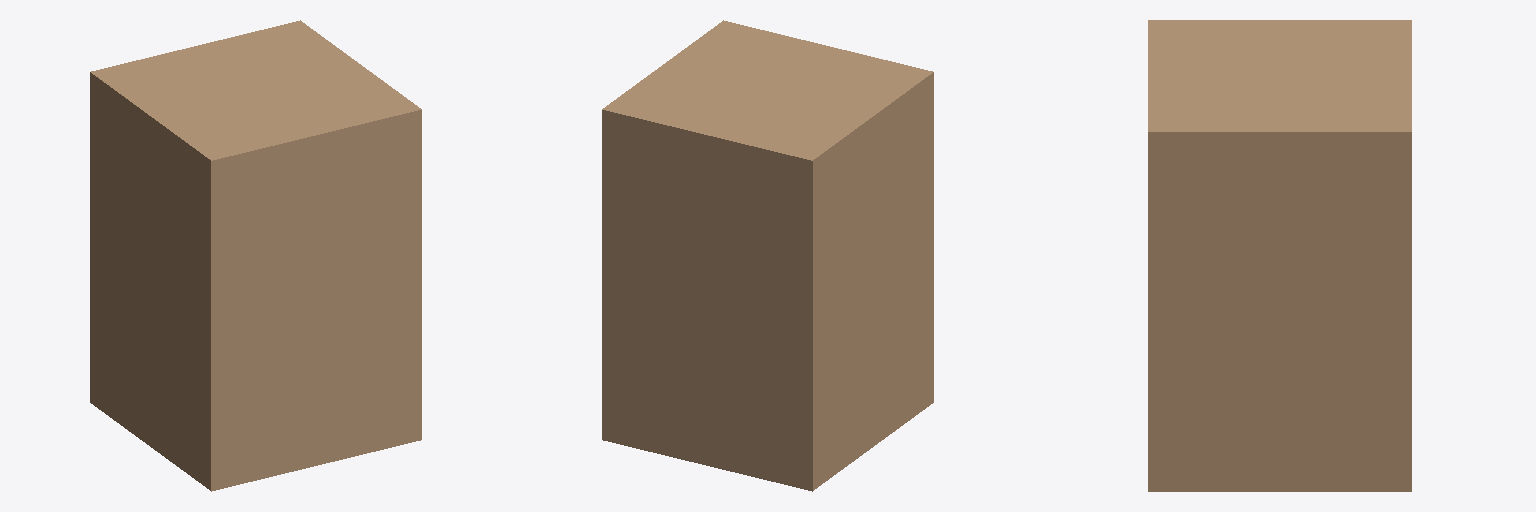
URDF robot description (plane):
<?xml version="1.1" ?> 
<robot name="plane"> 

  <link name="box">
    <contact>
        <lateral_friction value="1"/>
    </contact>

    <inertial>
      <origin rpy="0 0 0" xyz="0 0 0"/>
      <mass value=".0"/>
      <inertia ixx="0" ixy="0" ixz="0" iyy="0" iyz="0" izz="0"/>
    </inertial>

    <visual>
      <origin rpy="0 0 0" xyz="0.0 0.0 0.0"/>
      <geometry>
        <box size="0.4 0.4 0.6"/>
      </geometry>
      <material name="table_gray"/>
    </visual>

    <collision>
      <origin rpy="0 0 0" xyz="0.0 0.0 0.0"/>
      <geometry>
        <box size="0.4 0.4 0.6"/>
      </geometry>
    </collision>

  </link>

  <material name="table_gray">
    <color rgba=".7686 .6431 .5176 1."/>
  </material>
</robot>

--- Render facts (derived) ---
3 views of the same robot in one strip: view 1: azimuth 30°, elevation 25°; view 2: azimuth 150°, elevation 25°; view 3: azimuth 270°, elevation 25° (orthographic).
Model plane with 1 links and 0 joints (none), rooted at box, posed every joint at zero.
Links seen in each view (by area): view 1: box; view 2: box; view 3: box.
Boxes of the visible links, box(x1,y1,x2,y2) form: box: box(90, 20, 421, 491); box: box(602, 20, 933, 491); box: box(1148, 20, 1411, 491).
Bounding box of the posed robot: 0.4 × 0.4 × 0.6 m (x, y, z).
Geometry: primitives only (box / cylinder / sphere), no mesh files.